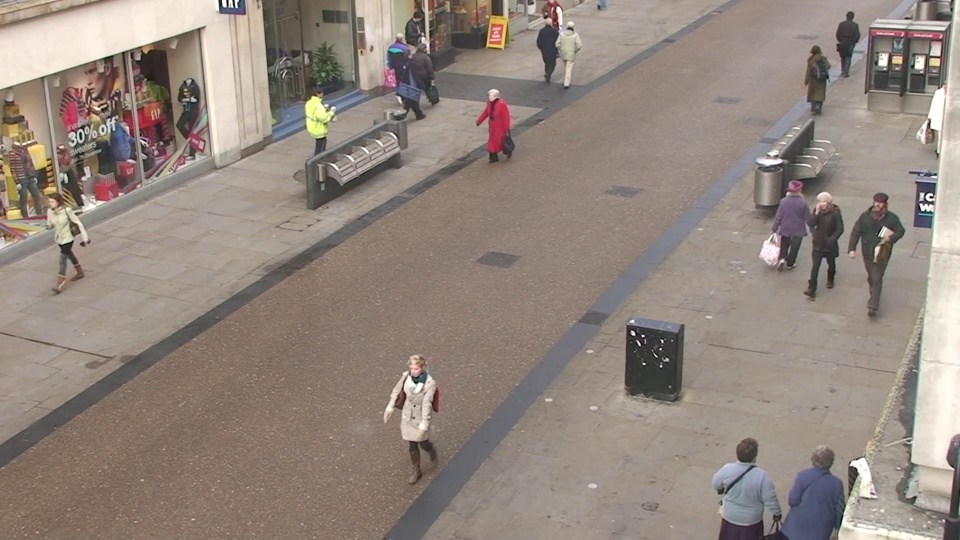pedestrian: (393, 347, 447, 501), (712, 426, 774, 540), (786, 432, 850, 540), (35, 187, 89, 299), (852, 188, 899, 305), (799, 187, 842, 303), (771, 175, 812, 287), (480, 85, 510, 173), (303, 81, 334, 166), (797, 42, 829, 120), (831, 9, 863, 80), (394, 46, 421, 121), (408, 39, 435, 113), (387, 31, 413, 102), (559, 18, 583, 86), (536, 14, 560, 81), (407, 10, 431, 75)
